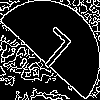L: (25, 25, 74, 78)
